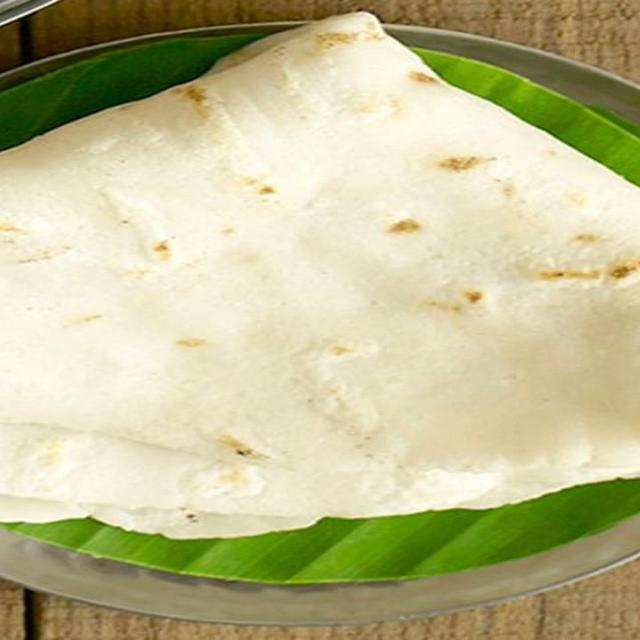RICE BHAKRI: (0, 16, 637, 539)
